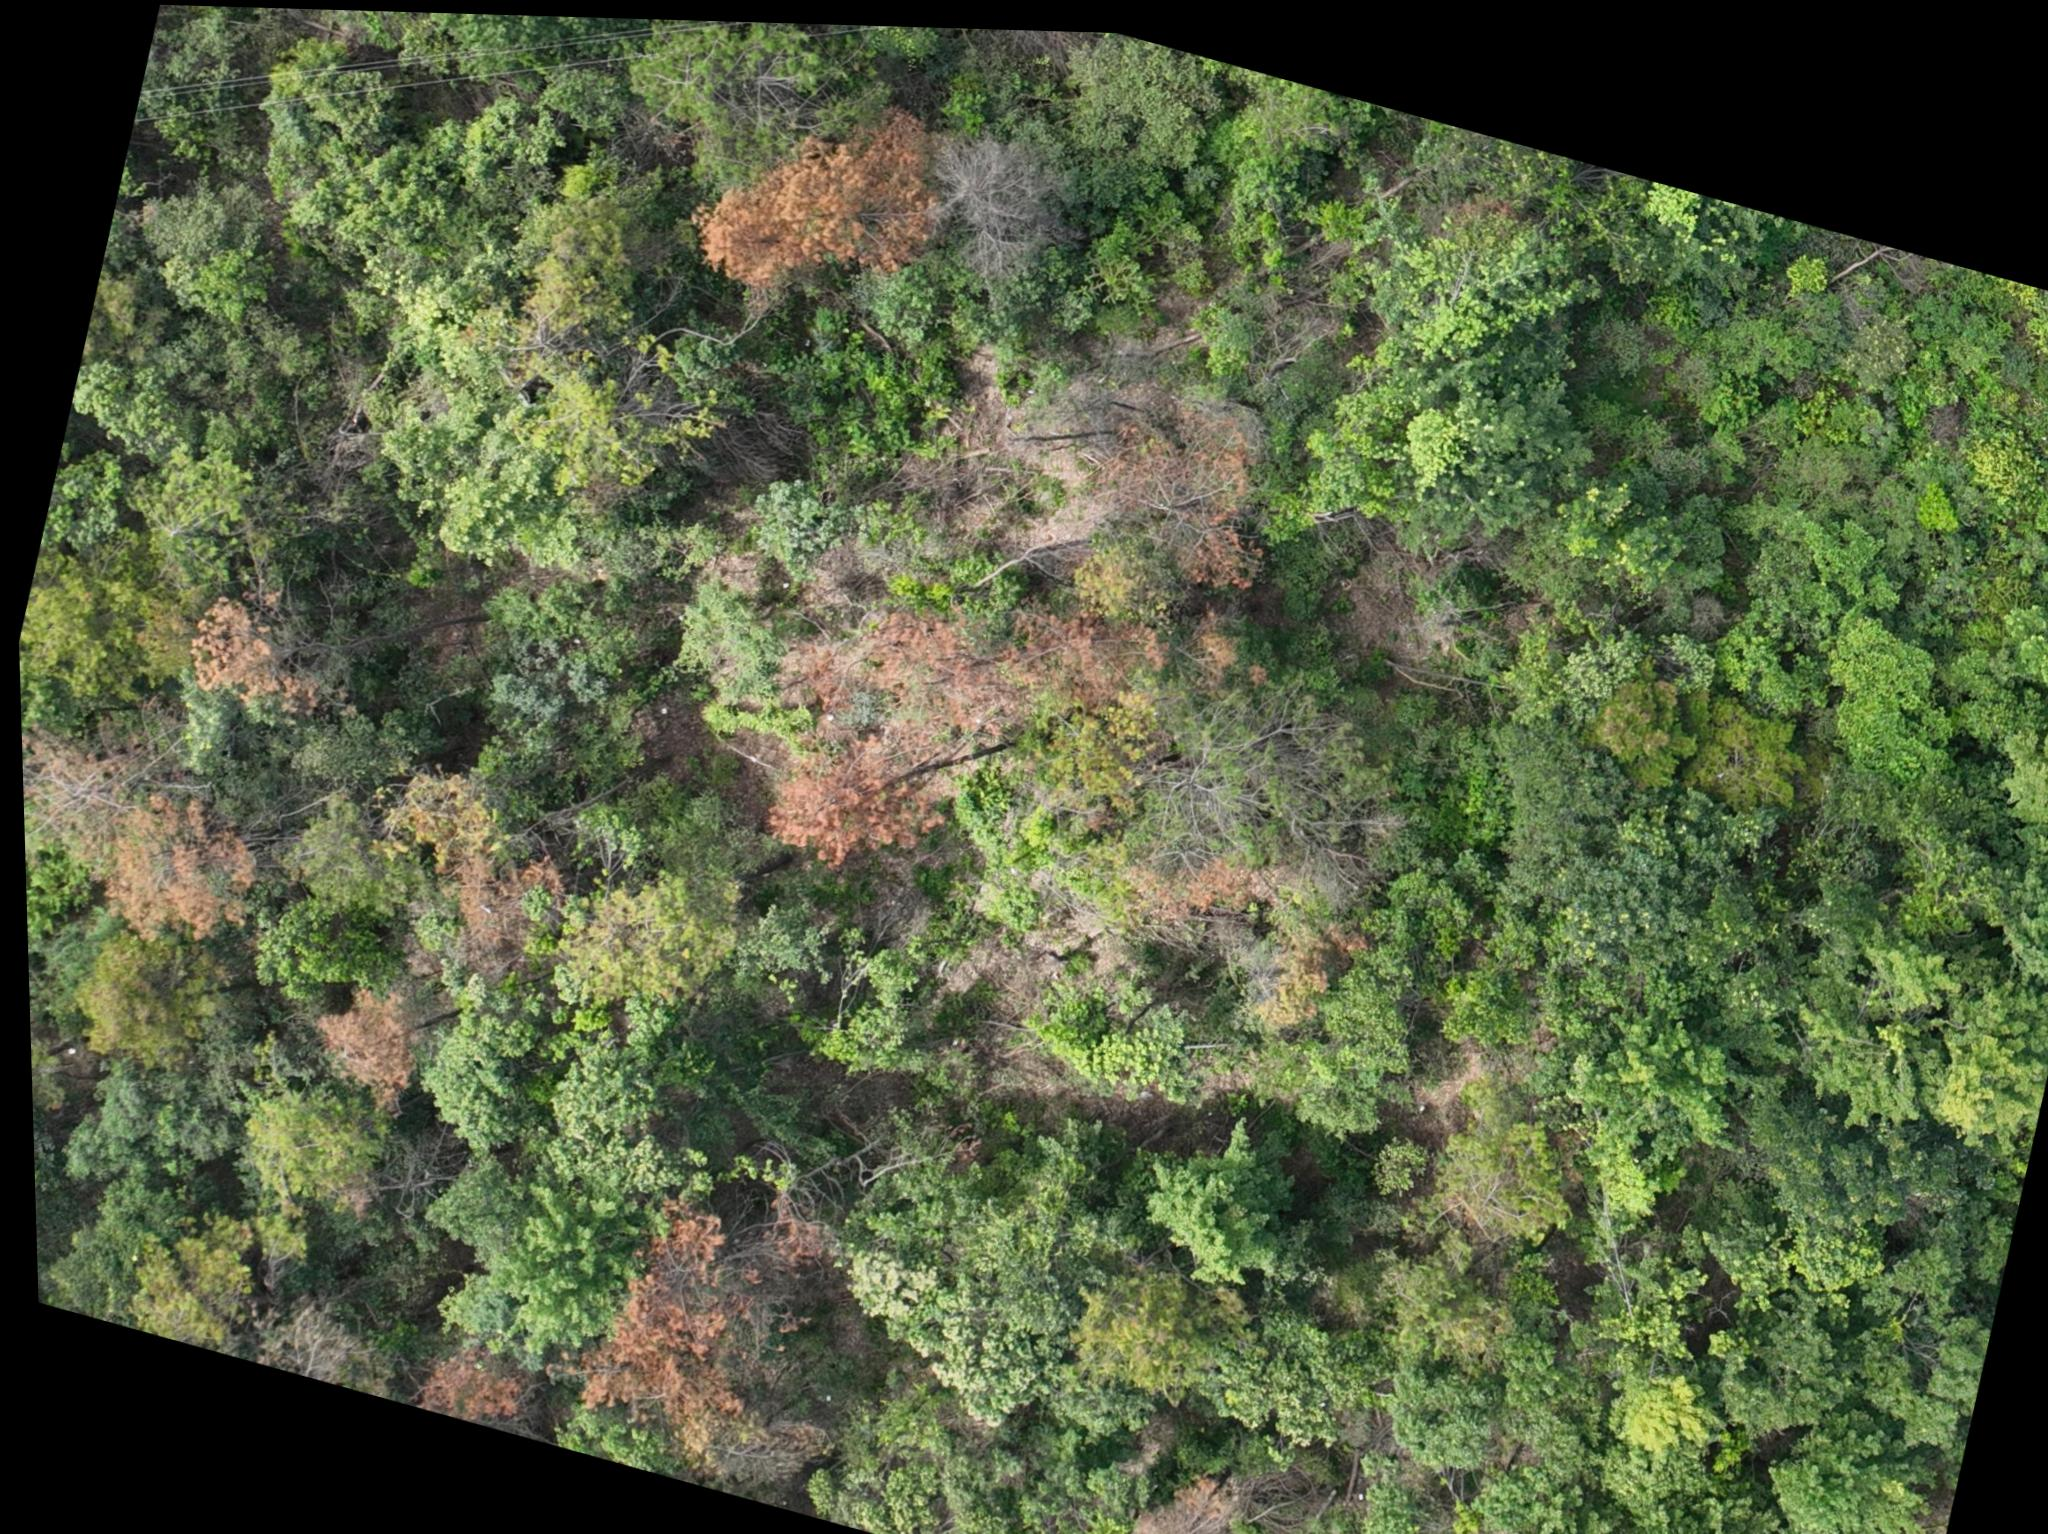dead: (933, 127, 1075, 293)
heavy: (730, 535, 1159, 933), (564, 1141, 862, 1481), (675, 45, 962, 321), (16, 706, 285, 968), (1078, 388, 1296, 590), (174, 582, 334, 738), (295, 959, 422, 1109), (1091, 1436, 1268, 1534), (395, 1333, 514, 1423)
light: (334, 752, 574, 986), (1571, 641, 1745, 804)
